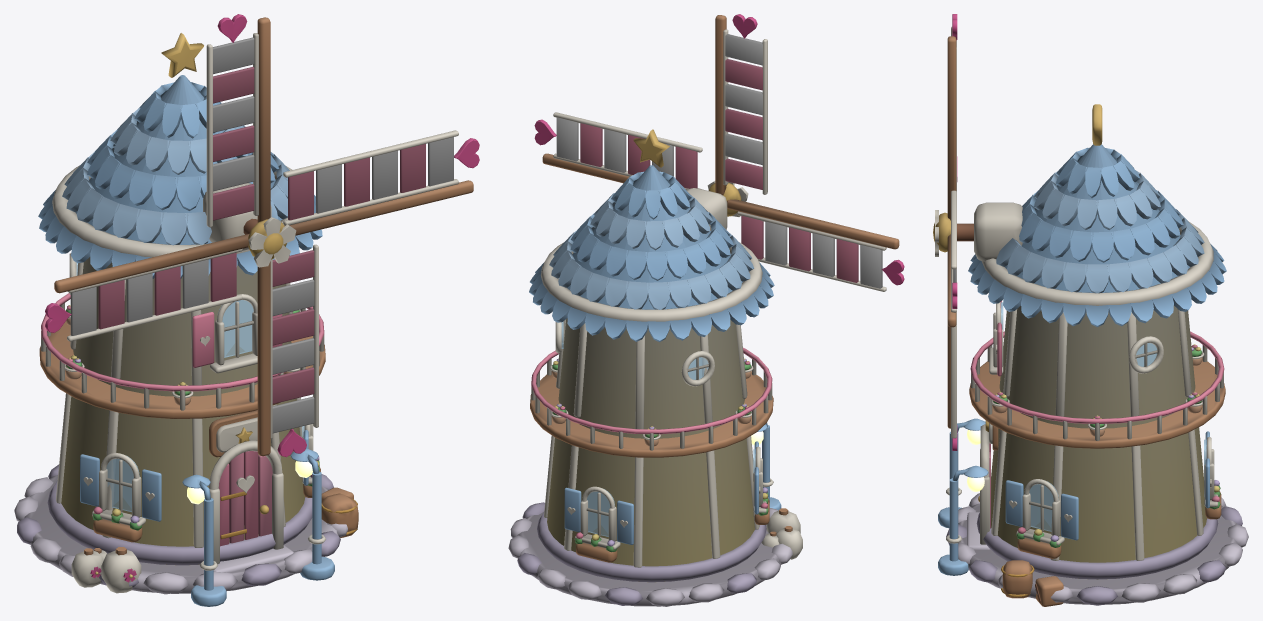
File: hidden-meadow-windmill.glb
3 views of the same model, side by side, from view 1: azimuth 30°, elevation 25°; view 2: azimuth 150°, elevation 25°; view 3: azimuth 270°, elevation 25° (orthographic). The views are drawn at different scales.
Parts seen in each view (by area): view 1: W_HIDDEN_MEADOW_WINDMILL__body; view 2: W_HIDDEN_MEADOW_WINDMILL__body; view 3: W_HIDDEN_MEADOW_WINDMILL__body.
Part boxes in pixels (x1,y1,x2,y2): W_HIDDEN_MEADOW_WINDMILL__body: (14,14,479,606); W_HIDDEN_MEADOW_WINDMILL__body: (508,14,904,606); W_HIDDEN_MEADOW_WINDMILL__body: (933,14,1248,606).
Size of the model in its own units: 1.56 by 2 by 1.11.
